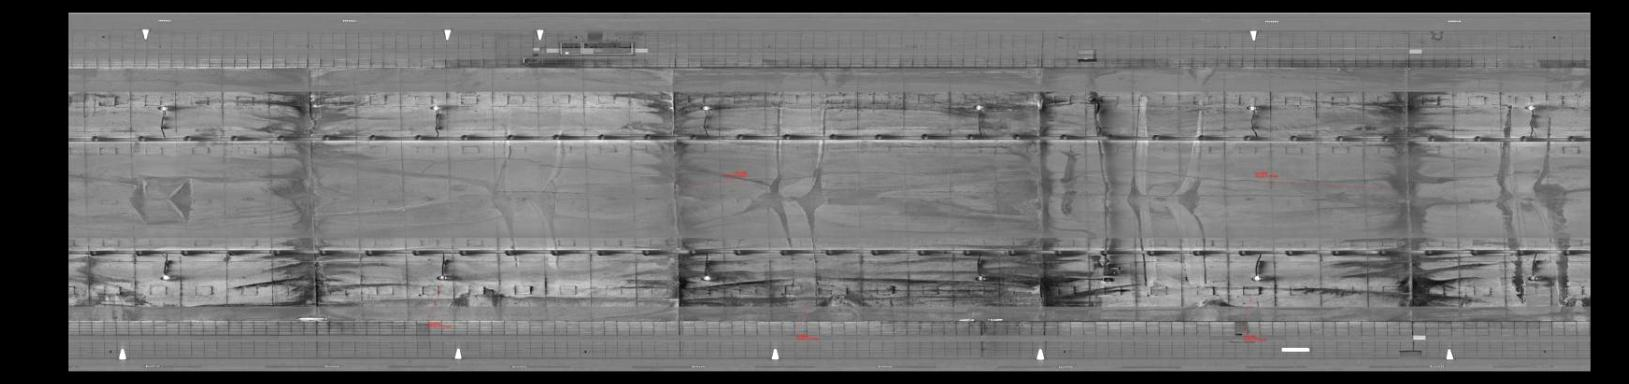light: (1240, 102, 1264, 115), (155, 271, 173, 286), (432, 271, 453, 284), (152, 100, 173, 112), (1248, 271, 1267, 283), (694, 102, 717, 112), (1521, 101, 1540, 113), (697, 272, 715, 284), (1525, 271, 1542, 283), (428, 102, 448, 112), (969, 103, 987, 113), (969, 274, 989, 282)
